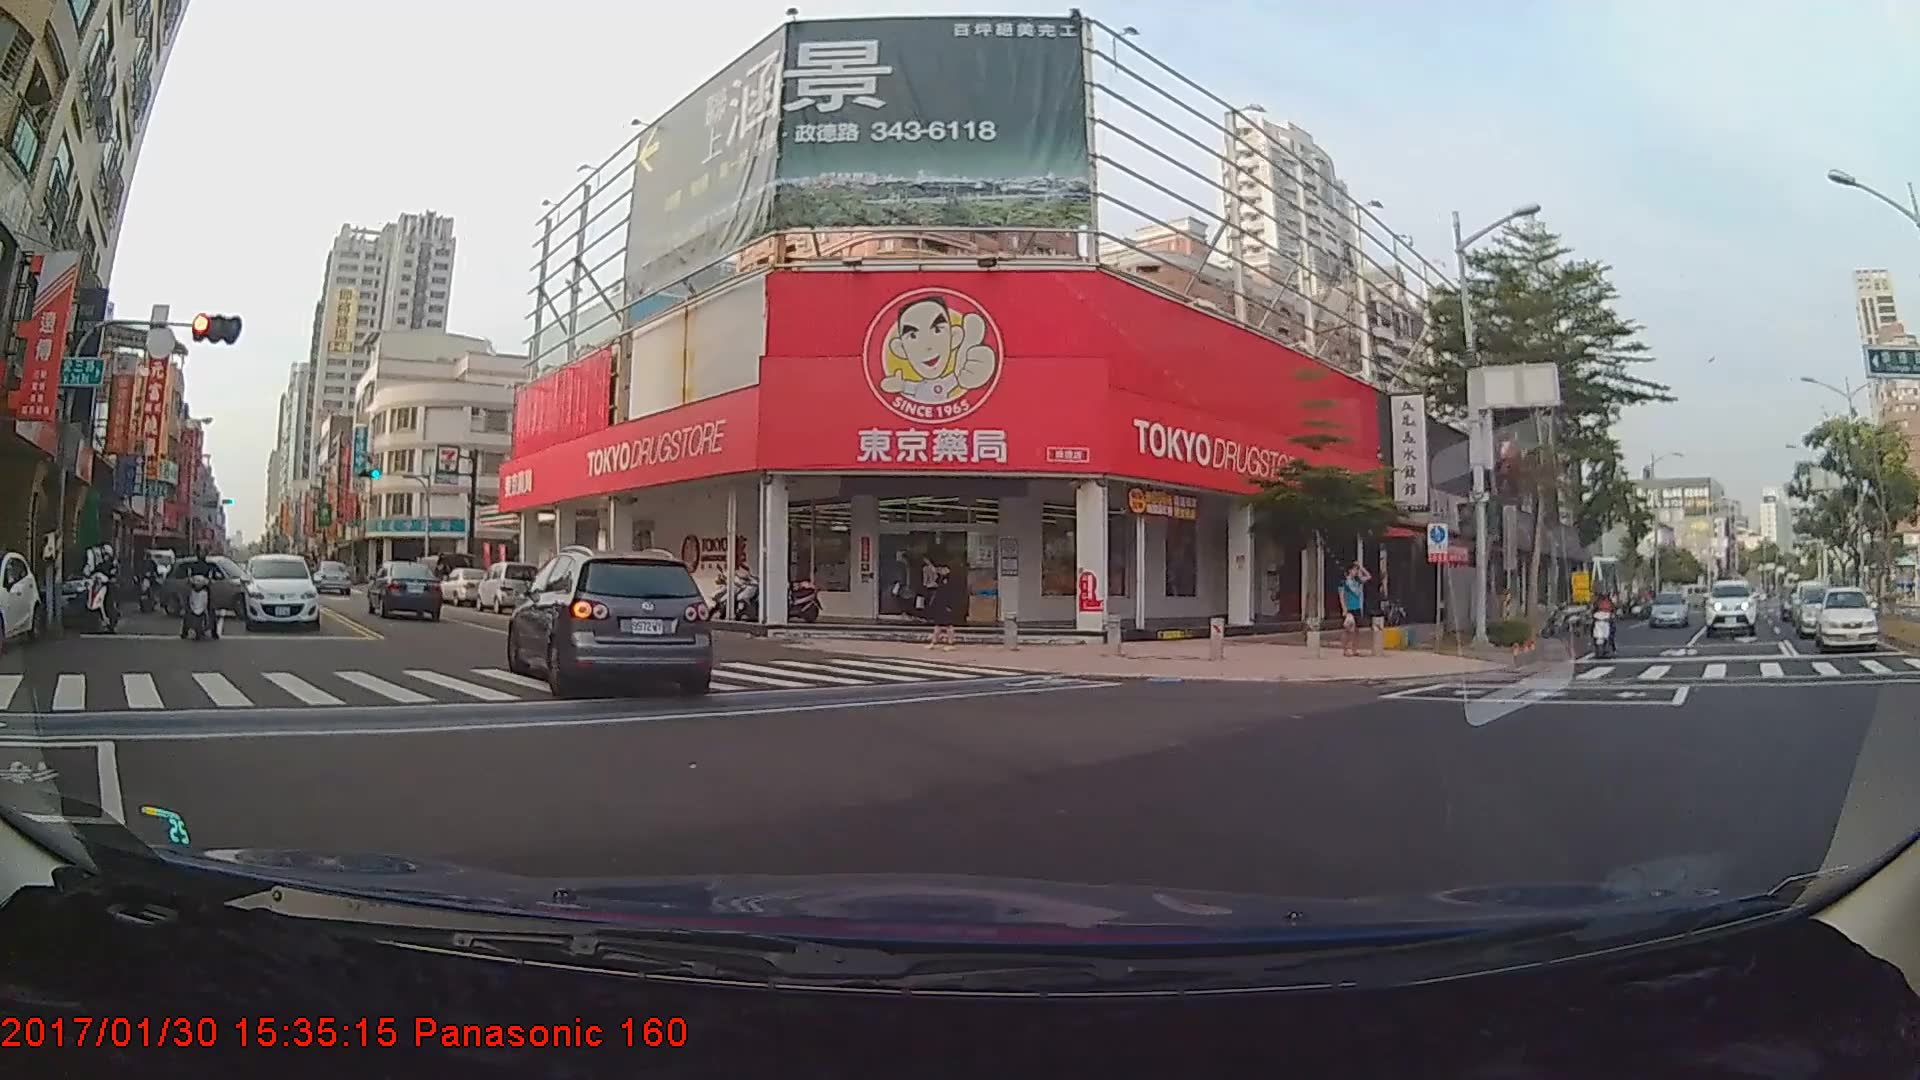pedestrian: (925, 563, 966, 655), (1340, 559, 1375, 662), (891, 550, 922, 627)
rider: (176, 549, 225, 649), (78, 545, 128, 637), (1585, 588, 1623, 658)
vehicle: (507, 549, 713, 693), (156, 554, 264, 617), (240, 556, 320, 635), (367, 560, 441, 620), (1818, 588, 1878, 651), (473, 560, 539, 614), (1795, 581, 1857, 637), (1705, 577, 1756, 634), (435, 566, 495, 605), (1648, 590, 1690, 626)
